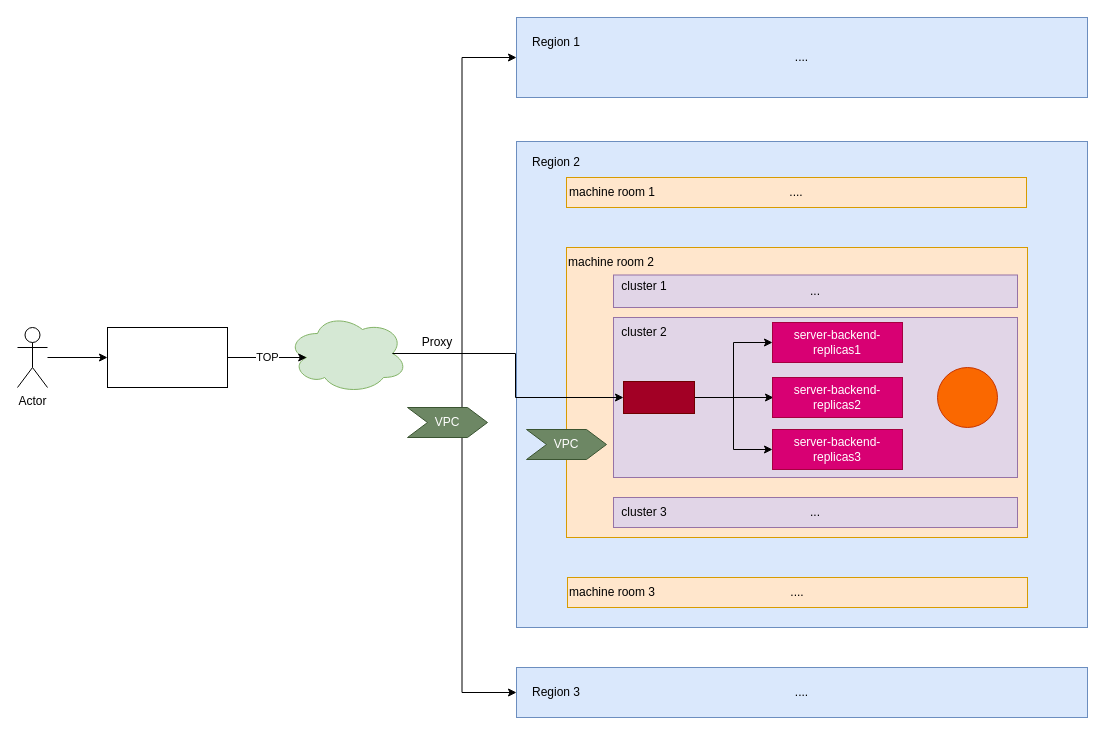
Some shapes in this 1105 by 735 pixel diagram are drawn without their labels. Here are the shapes that lost their labels. From the top down, the centre of each, then its label:
At (167,357): "大前端".
At (347,353): "Cloud".
At (658,397): "SVC".
At (967,397): "cronjob".
